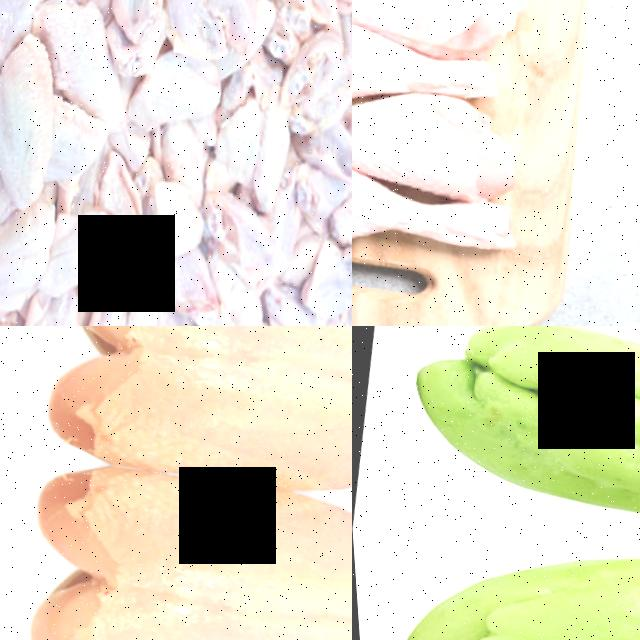chayote: (355, 326, 640, 574), (352, 475, 640, 640)
chicken breast: (0, 437, 352, 640), (22, 326, 352, 529)
chicken thigh: (352, 134, 522, 292), (352, 64, 525, 211), (352, 0, 487, 135), (352, 0, 531, 65)
